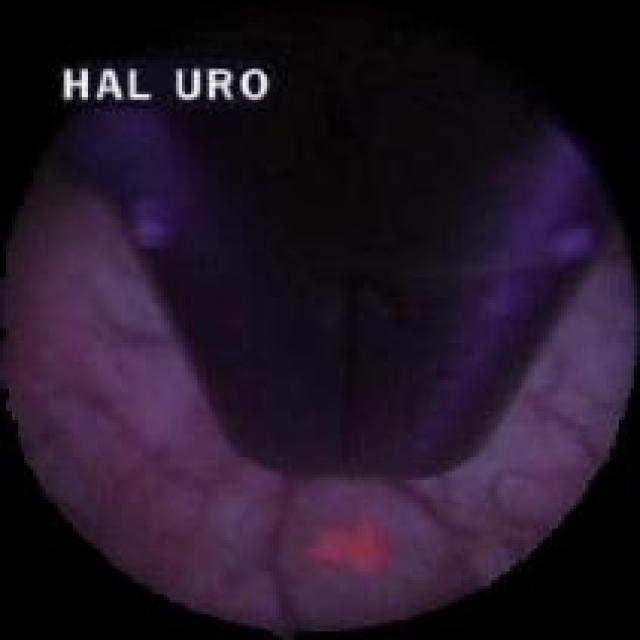color misalignment: (48, 62, 289, 108)
instrument: (37, 24, 607, 482)
